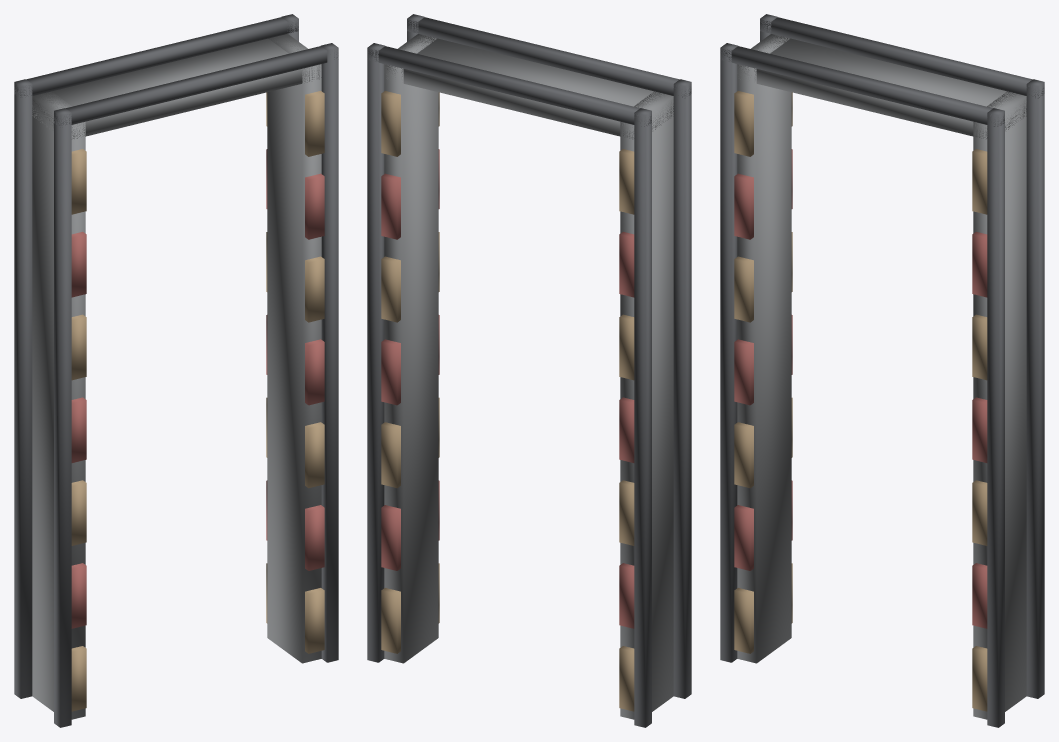
The model's file is doorway_brick_return_w86_h220_d24.glb.
3 views of the same model, side by side, from view 1: azimuth 30°, elevation 25°; view 2: azimuth 150°, elevation 25°; view 3: azimuth 330°, elevation 25° (orthographic).
Parts seen in each view (by area): view 1: world; view 2: world; view 3: world.
Boxes of the visible parts, x1=… form: world: x1=14, y1=14, x2=338, y2=727; world: x1=367, y1=14, x2=691, y2=727; world: x1=720, y1=14, x2=1044, y2=727.
Bounding box in the file's own units: 1.1 × 2.32 × 0.3165.
